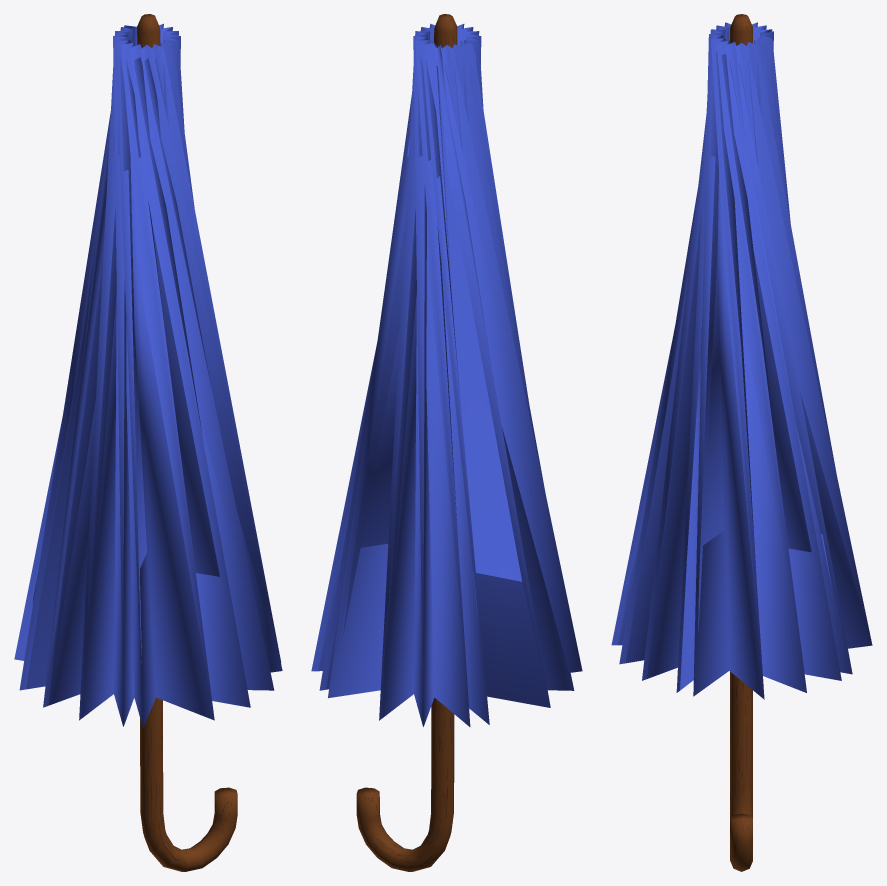
Rendered from umbrella.fbx.
The picture shows the model from 3 angles, left to right: view 1: azimuth 30°, elevation 25°; view 2: azimuth 150°, elevation 25°; view 3: azimuth 270°, elevation 25°; orthographic projection. The views are drawn at different scales.
Parts seen in each view (by area): view 1: Cylinder.004, Umbrella handle; view 2: Cylinder.004, Umbrella handle; view 3: Cylinder.004, Umbrella handle.
Part boxes in pixels (x1,y1,x2,y2): Cylinder.004: [14, 23, 282, 727]; Umbrella handle: [137, 14, 237, 871]; Cylinder.004: [311, 23, 582, 726]; Umbrella handle: [356, 14, 457, 871]; Cylinder.004: [611, 22, 872, 699]; Umbrella handle: [730, 14, 752, 871].
Bounding box in the file's own units: 72.22 × 258 × 73.33.
Materials: 2 (1 with a texture image).
